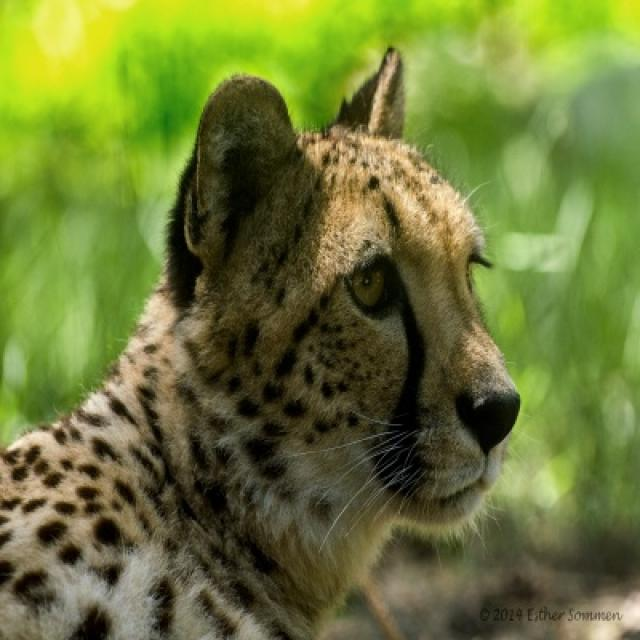Cheetah: (0, 48, 523, 638)
